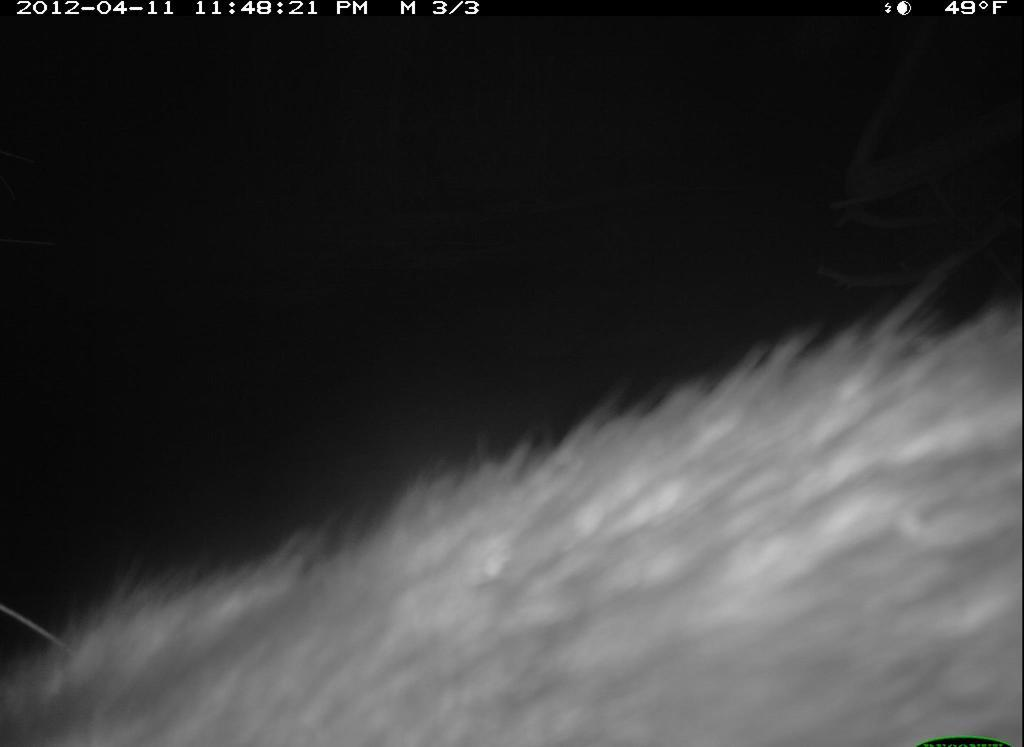raccoon: (8, 255, 1022, 745)
